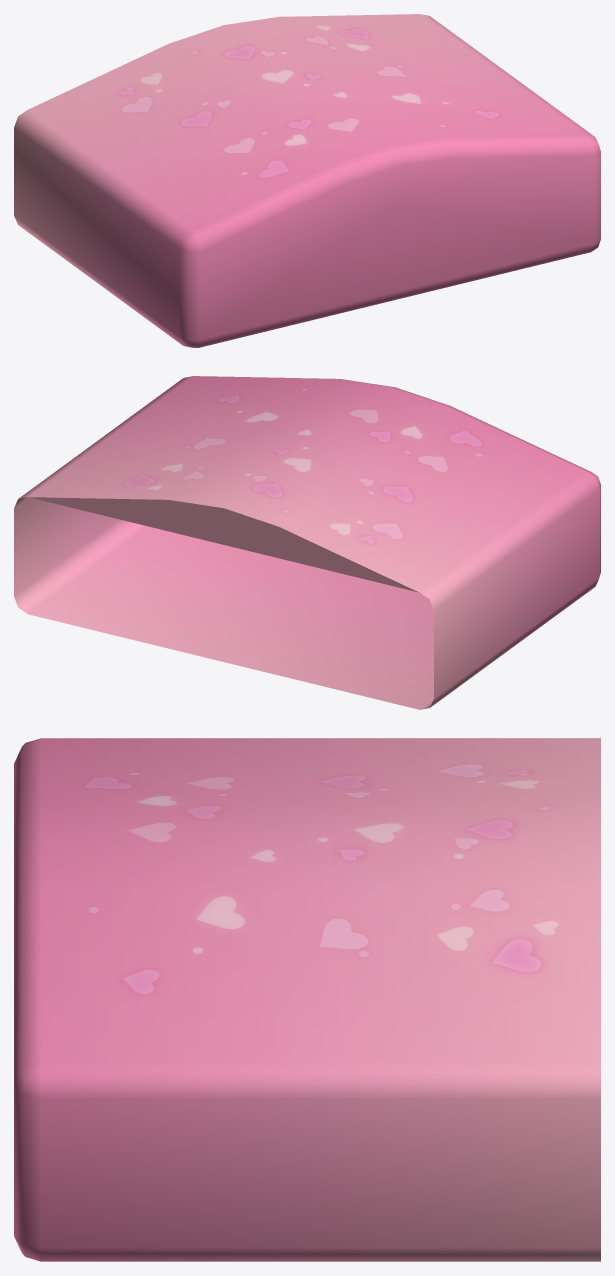
Rendered from bedsheetPink.fbx.
3 renders of one model, top to bottom at view 1: azimuth 30°, elevation 25°; view 2: azimuth 150°, elevation 25°; view 3: azimuth 270°, elevation 25°, orthographic. The views are drawn at different scales.
Parts seen in each view (by area): view 1: bed_pink; view 2: bed_pink; view 3: bed_pink.
Part boxes in pixels (x1,y1,x2,y2): bed_pink: (14,14,600,347); bed_pink: (14,376,600,709); bed_pink: (14,738,600,1261).
Bounding box in the file's own units: 150 × 52.53 × 107.
1 material, 1 textured.
